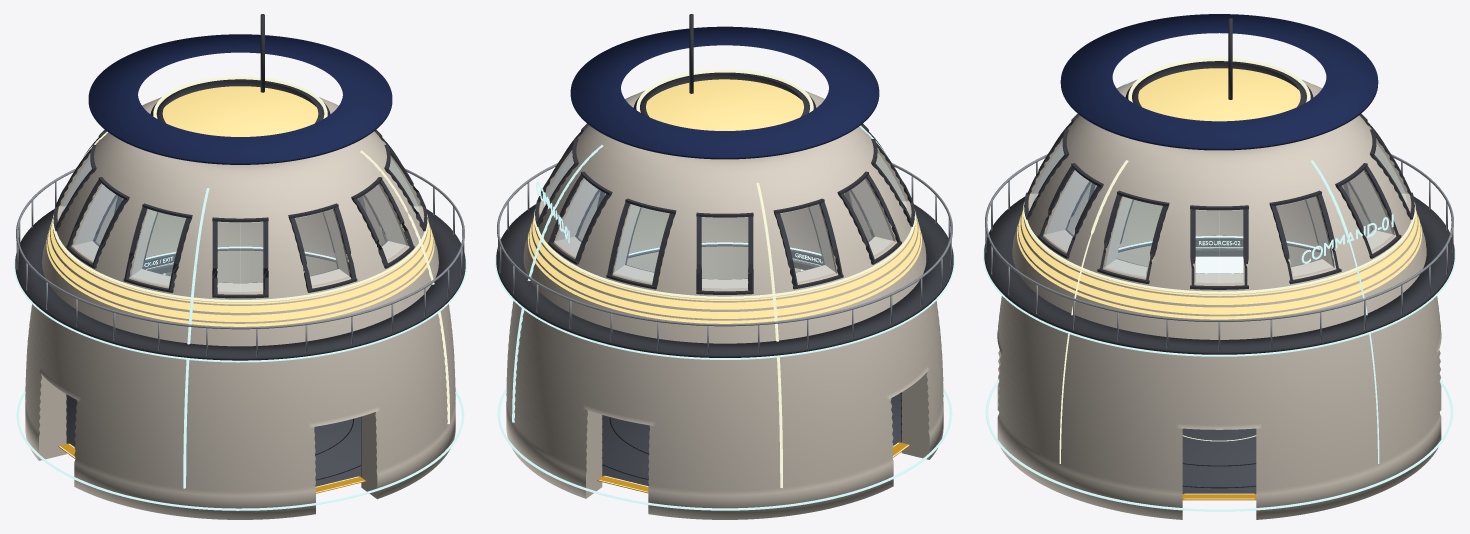
Rendered from Hub.fbx.
3 renders of one model, left to right at view 1: azimuth 30°, elevation 25°; view 2: azimuth 150°, elevation 25°; view 3: azimuth 270°, elevation 25°, orthographic. The views are drawn at different scales.
Visible parts, largest first — view 1: Hub solid, Hub trim; view 2: Hub solid, Hub trim; view 3: Hub solid, Hub trim.
Boxes of the visible parts, left/top/right/bottom form: Hub solid: left=25, top=86, right=455, bottom=519; Hub trim: left=14, top=14, right=466, bottom=510; Hub solid: left=506, top=79, right=943, bottom=519; Hub trim: left=495, top=14, right=954, bottom=510; Hub solid: left=997, top=68, right=1441, bottom=519; Hub trim: left=983, top=14, right=1455, bottom=511.
Bounding box in the file's own units: 12.81 × 12.6 × 12.81.
